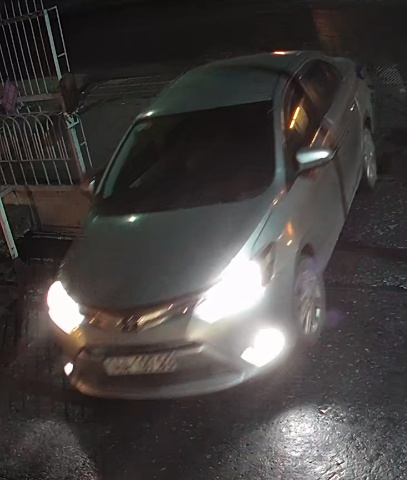vehicle plate: (101, 345, 190, 379)
